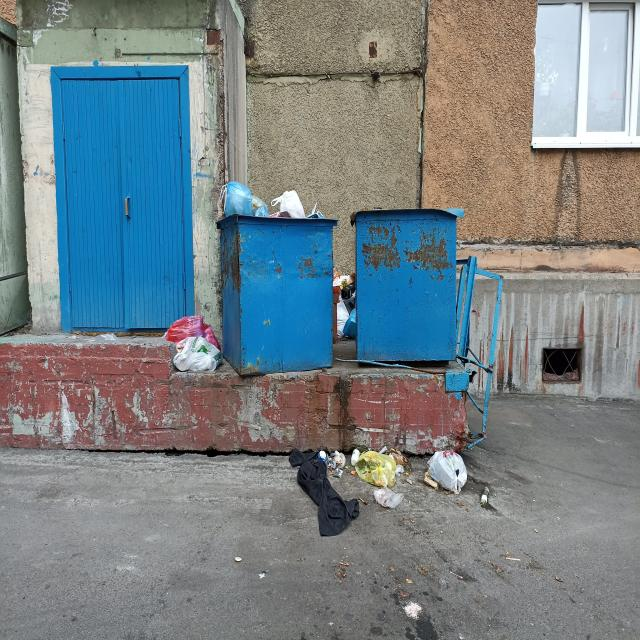bin: (217, 223, 335, 368), (356, 212, 461, 362)
plastic: (284, 438, 476, 541), (216, 179, 330, 221), (158, 307, 222, 379), (332, 263, 357, 341)
